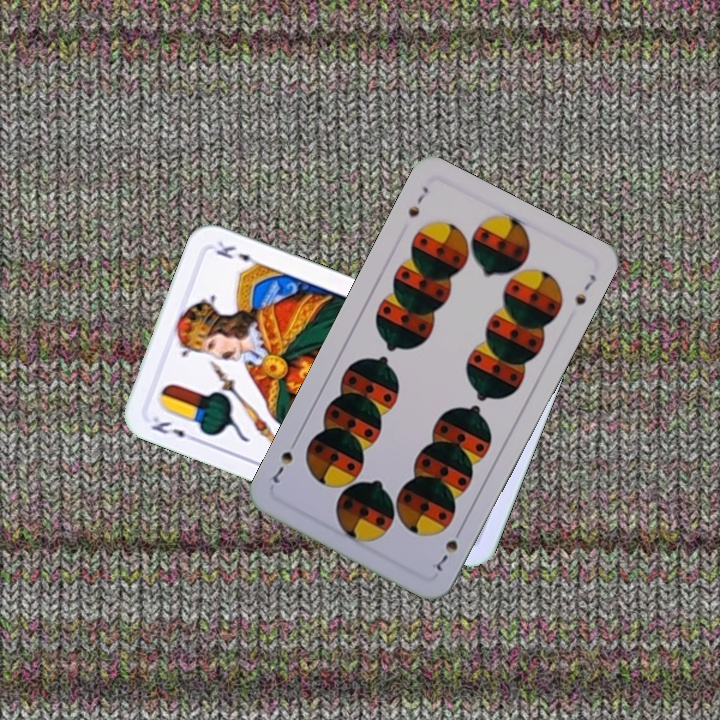EK: (147, 412, 200, 445)
S7: (432, 522, 466, 574), (404, 182, 431, 220)
